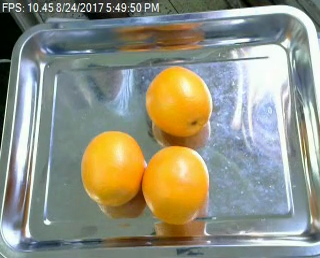Orange: (141, 144, 210, 223), (144, 66, 213, 137), (80, 130, 144, 205)
